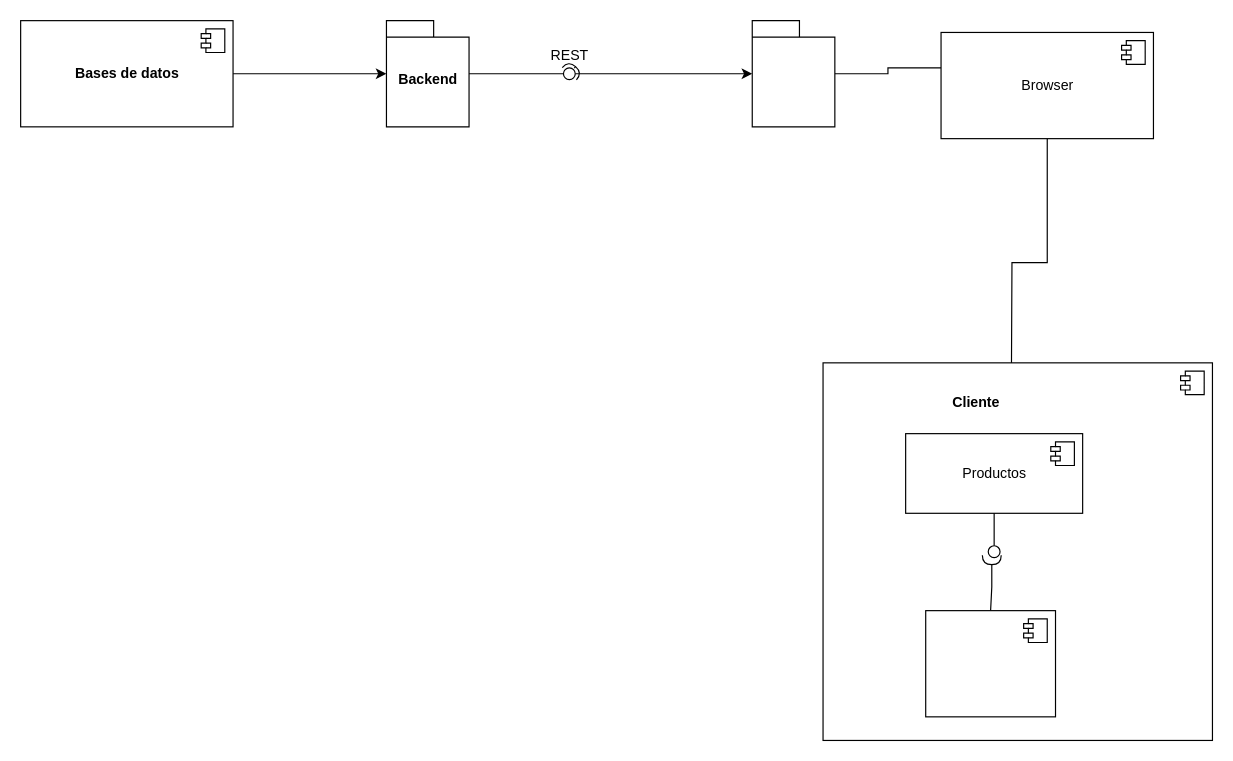
Some shapes in this 1233 by 761 pixel diagram are drawn without their labels. The shapes that lost their labels are listed below. From the top down, each one's centre as x and y in pixels, then its label:
[793,73]: FrontEnd
[990,663]: Detalles de prodcuto
